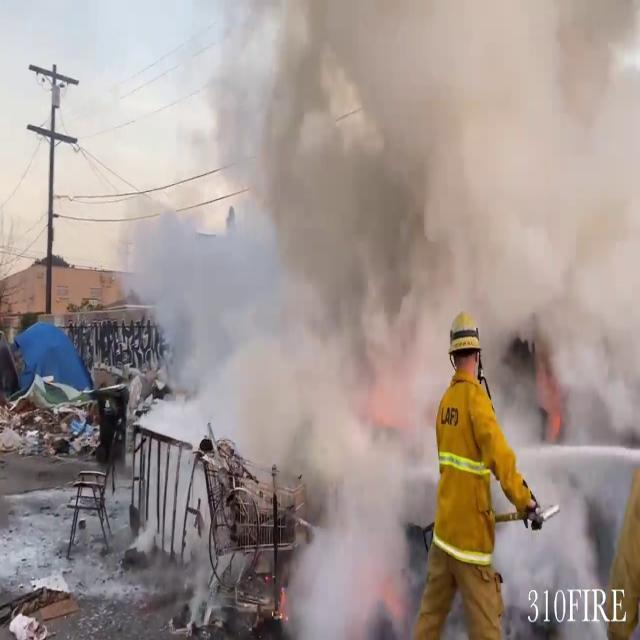Smoke: (114, 0, 640, 625)
